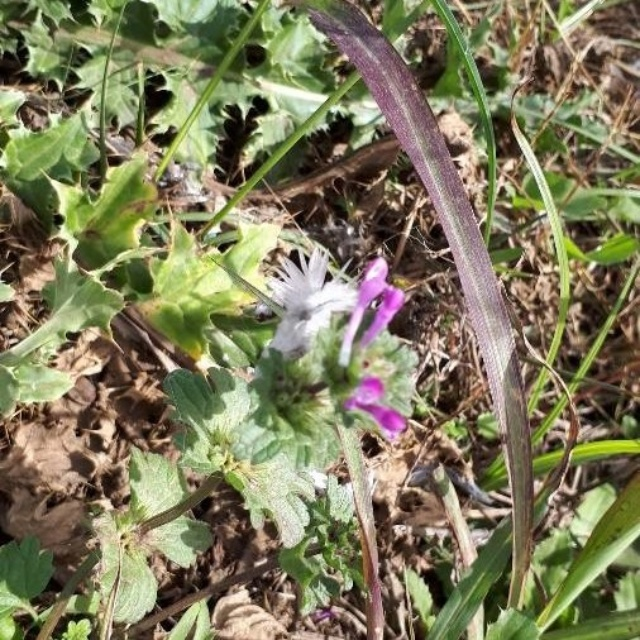obstacle: (15, 101, 381, 520)
